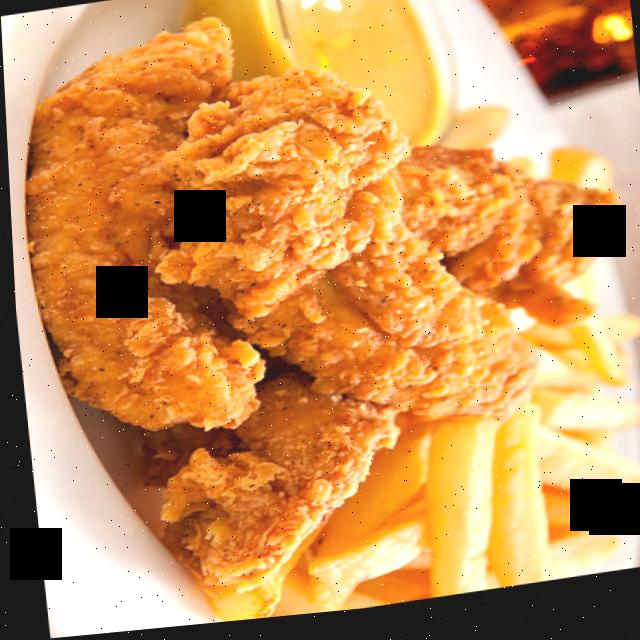Frango: (2, 0, 640, 621)
